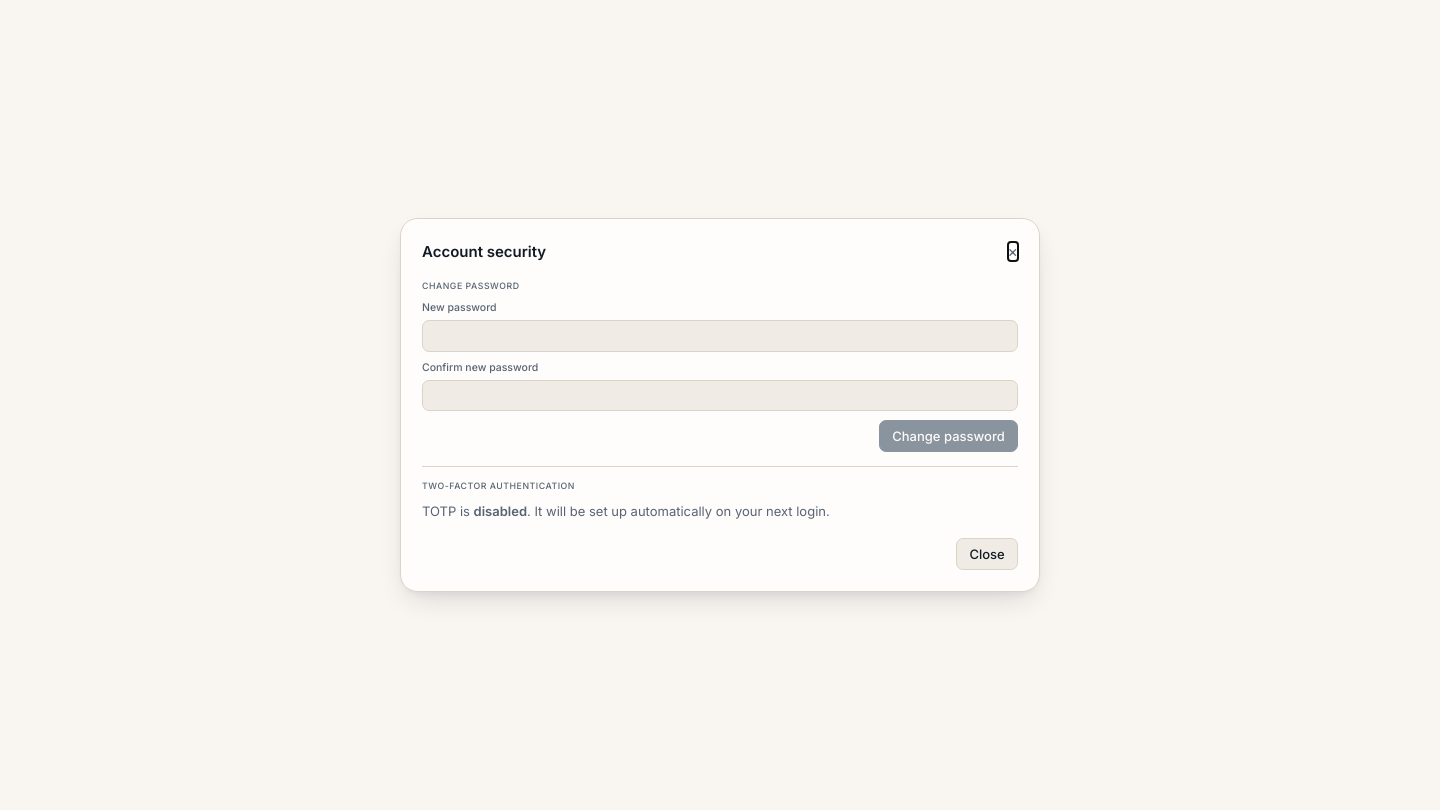
Test: SecurityModal password change — serialized against an overlapping change › refuses to start a request when beginPasswordChange reports one is already in flight
This screenshot has width=1440, height=810.
Type "A-brand-new-password9" into the password field labelled "New password" at (720, 336), box [422,320,1018,352]
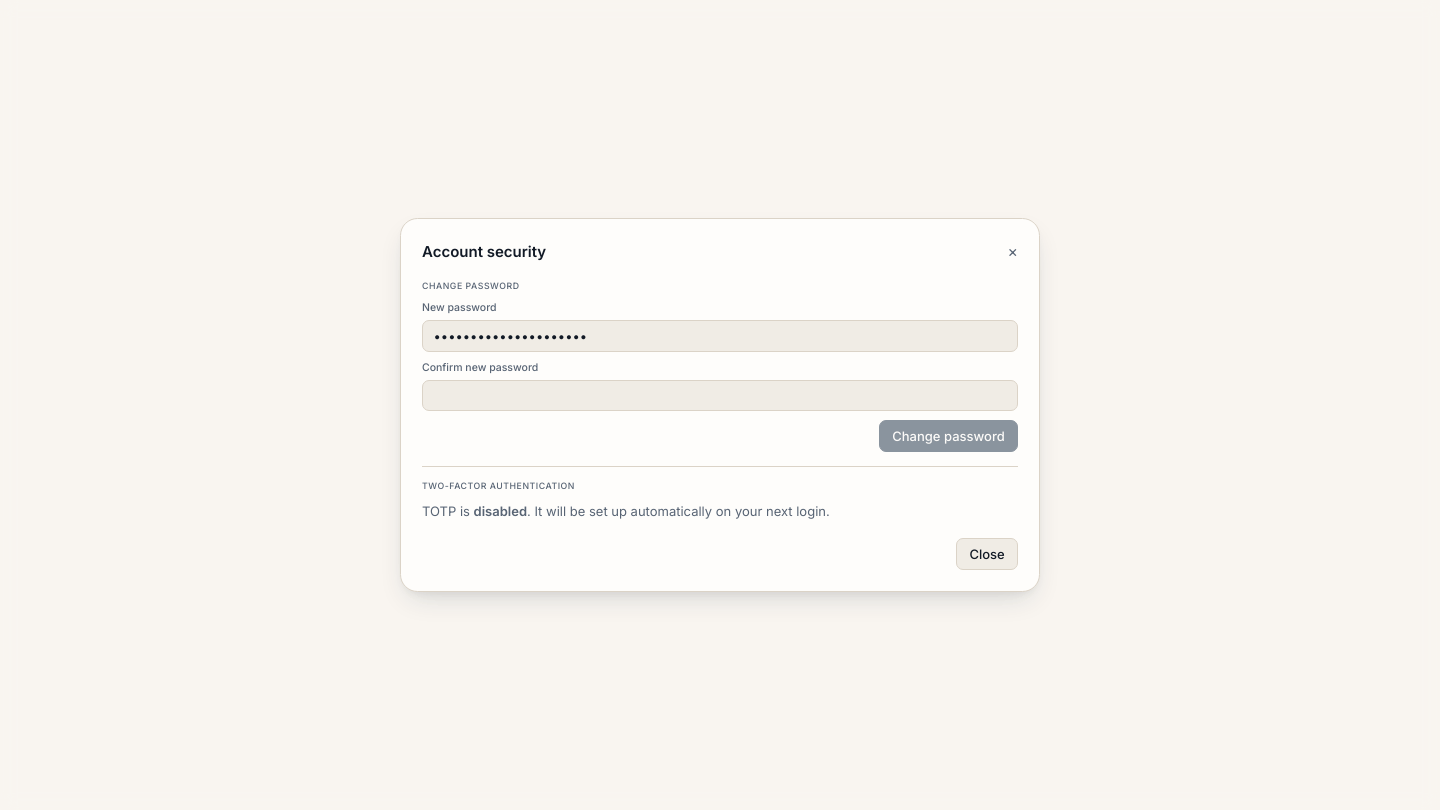
Type "A-brand-new-password9" into the password field labelled "Confirm new password" at (720, 396), box [422,380,1018,411]
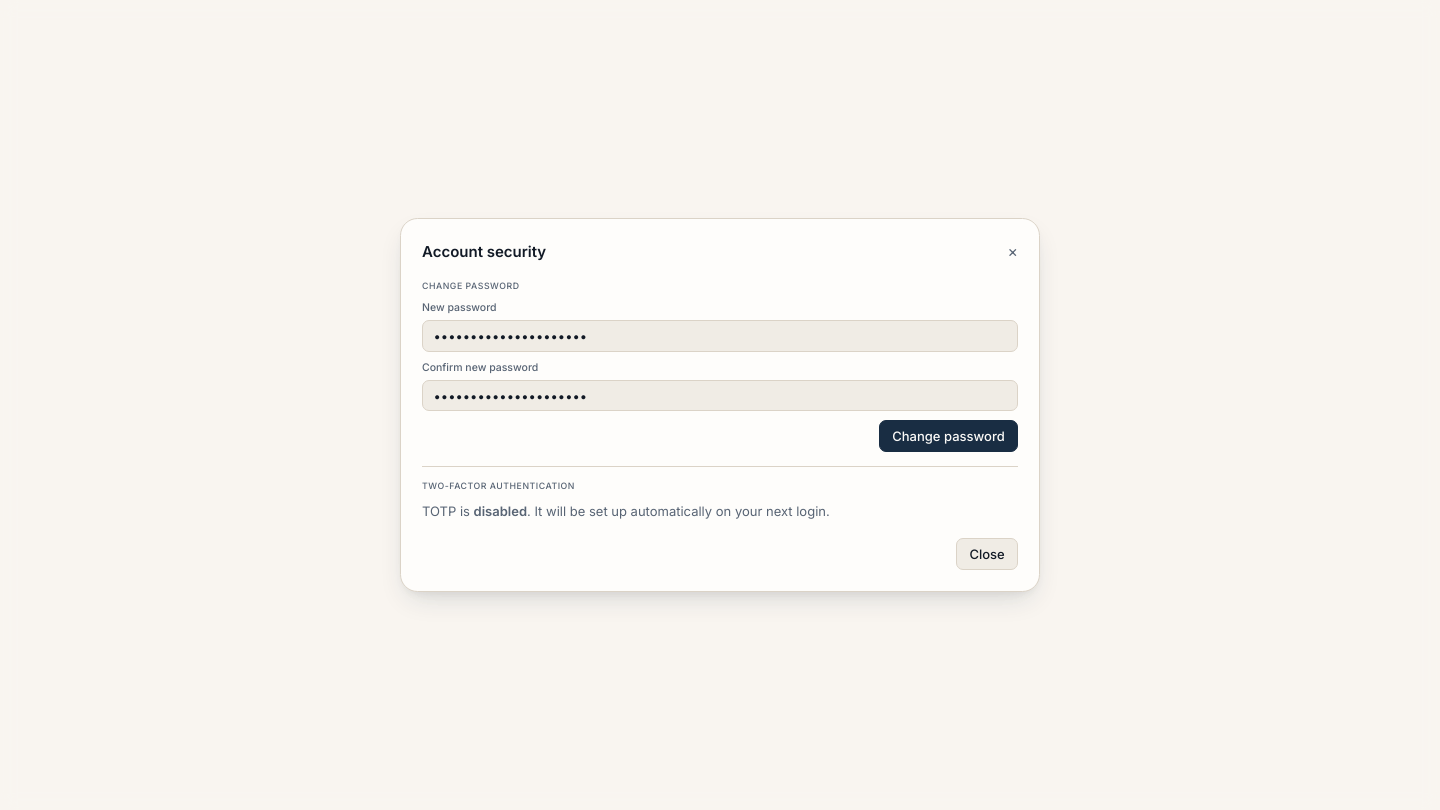
Click the button "Change password" at (948, 436), box [879,420,1018,452]
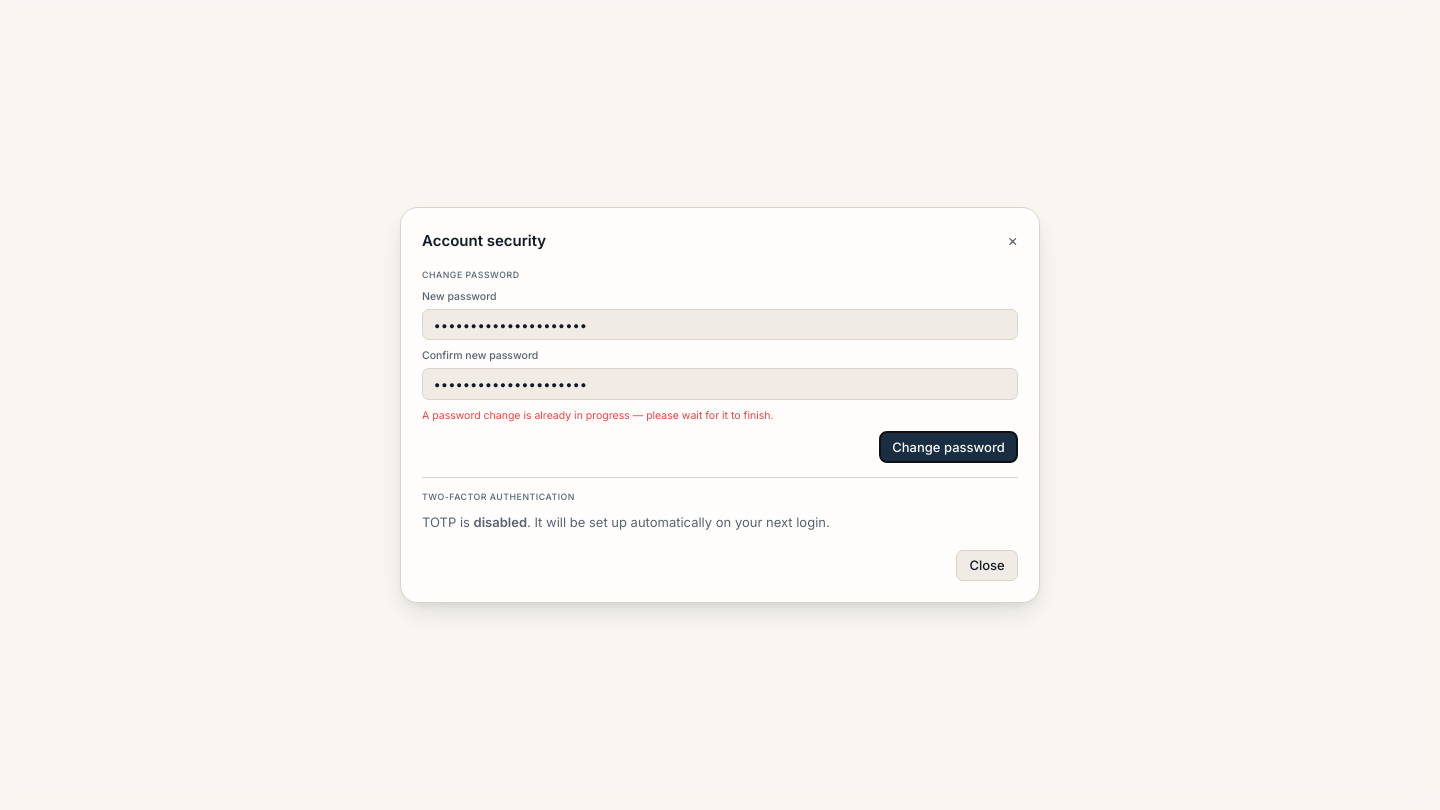
Result: the text "already in progress" is shown at [422,409,774,422]
